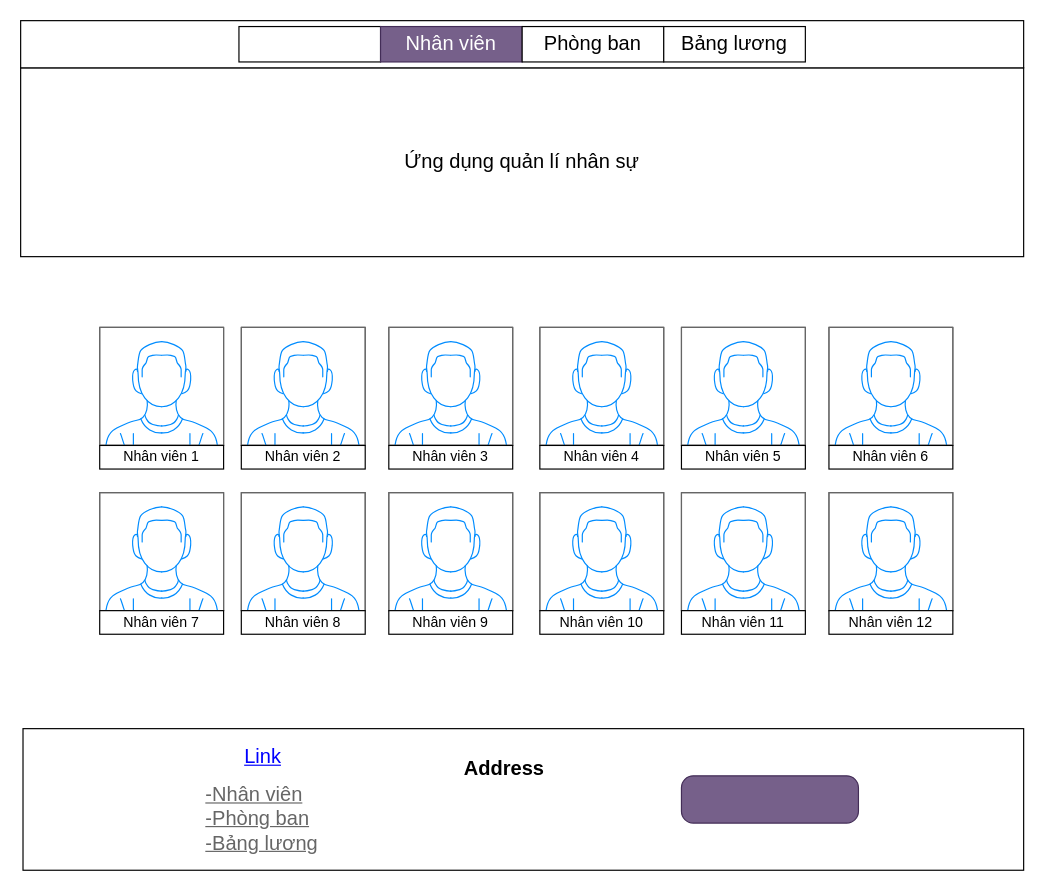
Some shapes in this 1044 by 891 pixel diagram are drawn without their labels. Each missing label, with the centre of its shape:
Logo: the point at 309,43
Social Network: the point at 769,799
